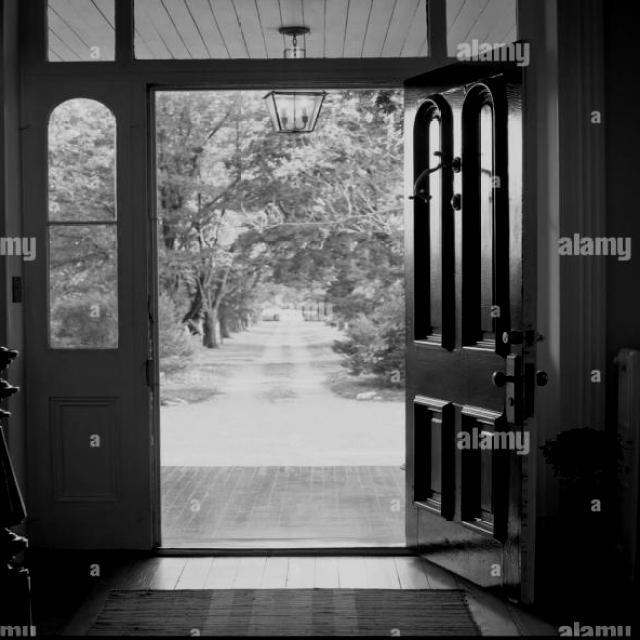door: (402, 62, 524, 584)
